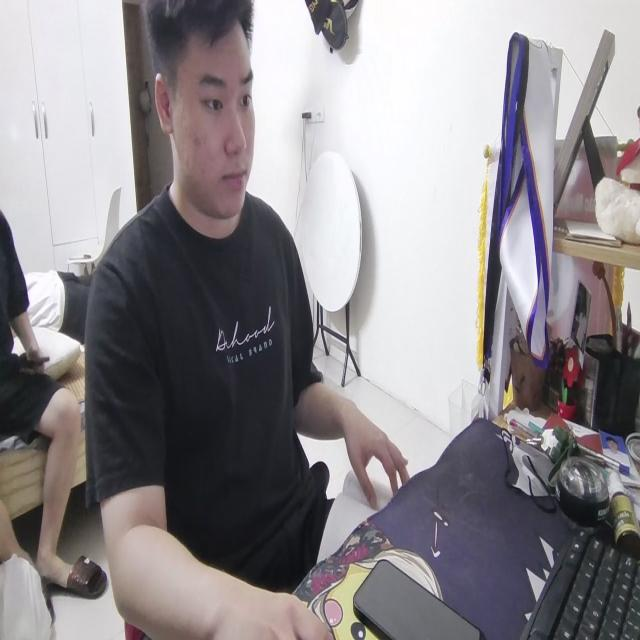extra_person: (0, 202, 98, 640)
phone: (350, 553, 484, 640)
student: (81, 0, 415, 640)
